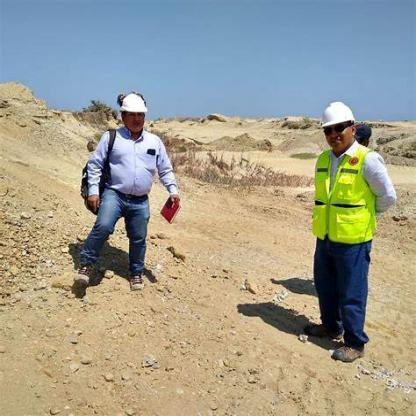person: (293, 88, 402, 369), (63, 80, 160, 297)
